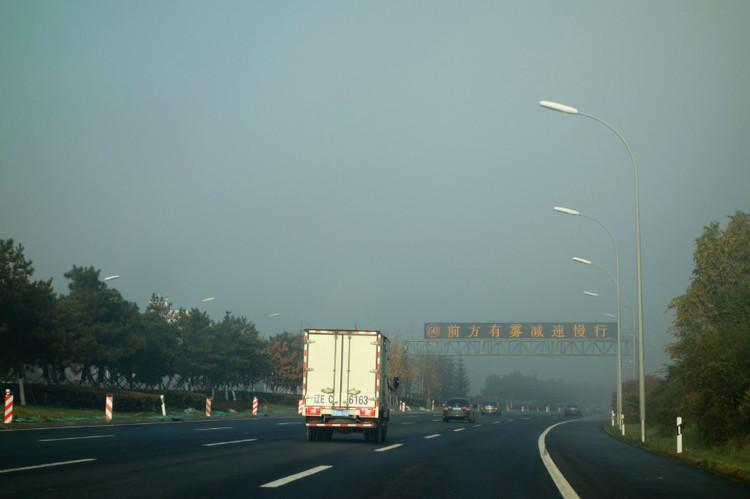bus: (297, 323, 401, 443)
car: (441, 395, 479, 423), (479, 400, 503, 416), (562, 403, 581, 418)
